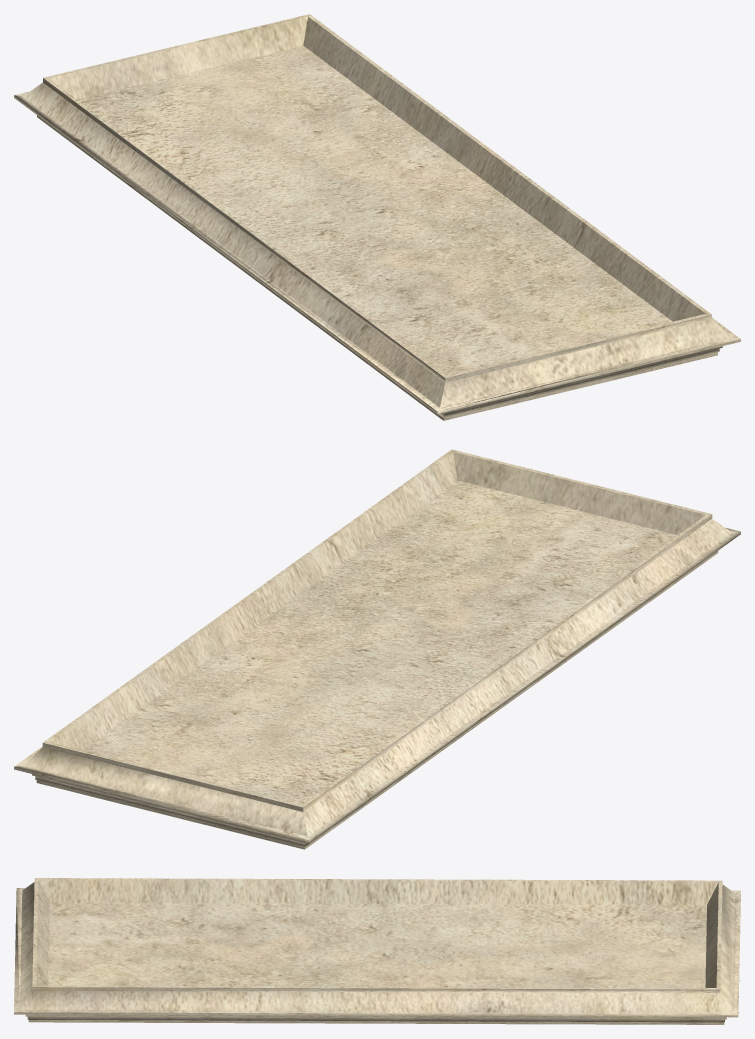
File: concrete_21.fbx
3 renders of one model, top to bottom at view 1: azimuth 30°, elevation 25°; view 2: azimuth 150°, elevation 25°; view 3: azimuth 270°, elevation 25°, orthographic. The views are drawn at different scales.
Parts seen in each view (by area): view 1: concrete_21; view 2: concrete_21; view 3: concrete_21.
Part boxes in pixels (<box>): concrete_21: <box>14,14,740,420</box>; concrete_21: <box>14,449,740,849</box>; concrete_21: <box>14,878,740,1024</box>.
Bounding box in the file's own units: 353 × 43.86 × 857.
